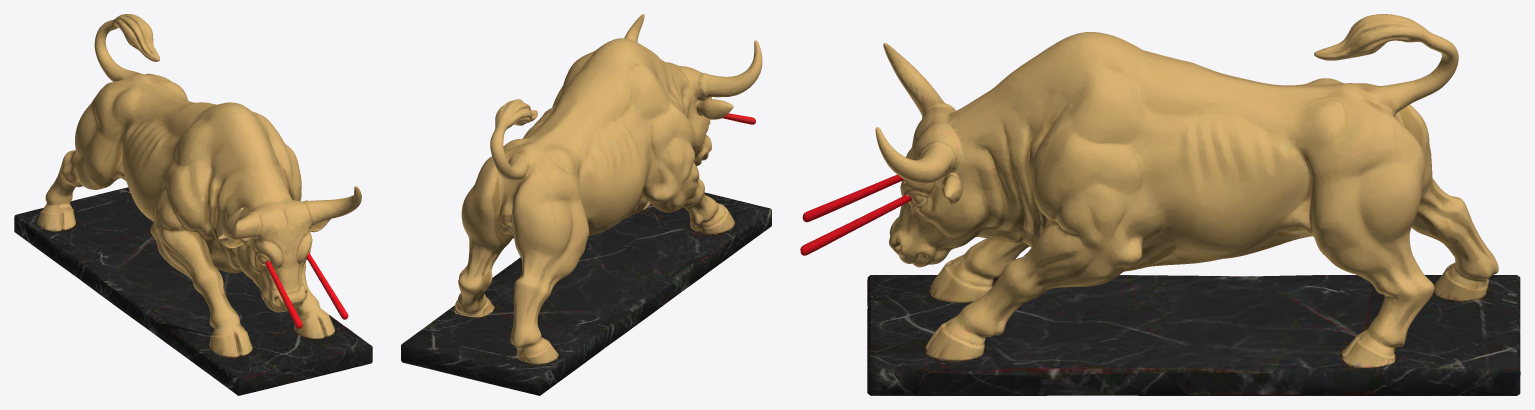
File: bull.glb
3 renders of one model, left to right at view 1: azimuth 30°, elevation 25°; view 2: azimuth 150°, elevation 25°; view 3: azimuth 270°, elevation 25°, orthographic. The views are drawn at different scales.
Visible parts, largest first — view 1: Mesh_0; view 2: Mesh_0; view 3: Mesh_0.
Part boxes in pixels (x1,y1,x2,y2): Mesh_0: [14, 14, 372, 395]; Mesh_0: [401, 14, 771, 395]; Mesh_0: [800, 14, 1520, 395].
Bounding box in the file's own units: 0.9211 × 1.5 × 2.89.
Materials: 1 (1 with a texture image).
